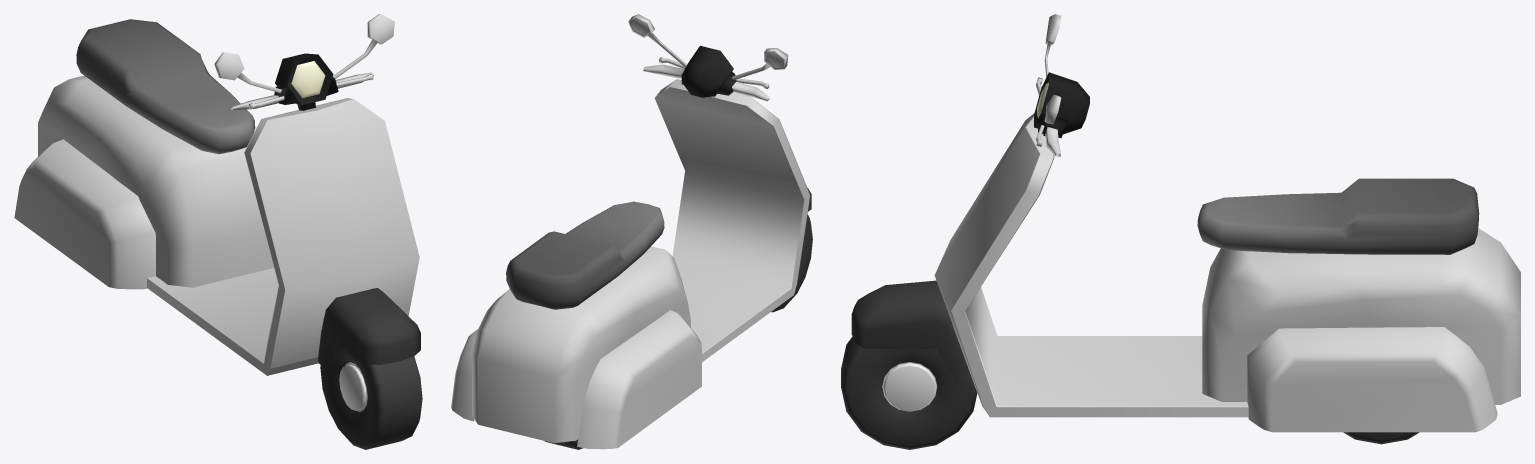
Rendered from Traffic_Scooter.fbx.
The picture shows the model from 3 angles, left to right: view 1: azimuth 30°, elevation 25°; view 2: azimuth 150°, elevation 25°; view 3: azimuth 270°, elevation 25°; orthographic projection. The views are drawn at different scales.
Visible parts, largest first — view 1: bike3_body, bike3_handle, bike3_FWheel; view 2: bike3_body, bike3_handle, bike3_FWheel; view 3: bike3_body, bike3_FWheel, bike3_handle.
Boxes of the visible parts, left/top/right/bottom form: bike3_body: left=14, top=19, right=419, bottom=375; bike3_handle: left=214, top=14, right=420, bottom=364; bike3_FWheel: left=320, top=340, right=422, bottom=449; bike3_body: left=451, top=79, right=810, bottom=449; bike3_handle: left=628, top=14, right=811, bottom=211; bike3_FWheel: left=771, top=214, right=812, bottom=312; bike3_body: left=934, top=113, right=1520, bottom=432; bike3_FWheel: left=841, top=336, right=977, bottom=449; bike3_handle: left=851, top=14, right=1089, bottom=383.
Bounding box in the file's own units: 3.45 × 6.27 × 10.02.
2 materials, 1 textured.
